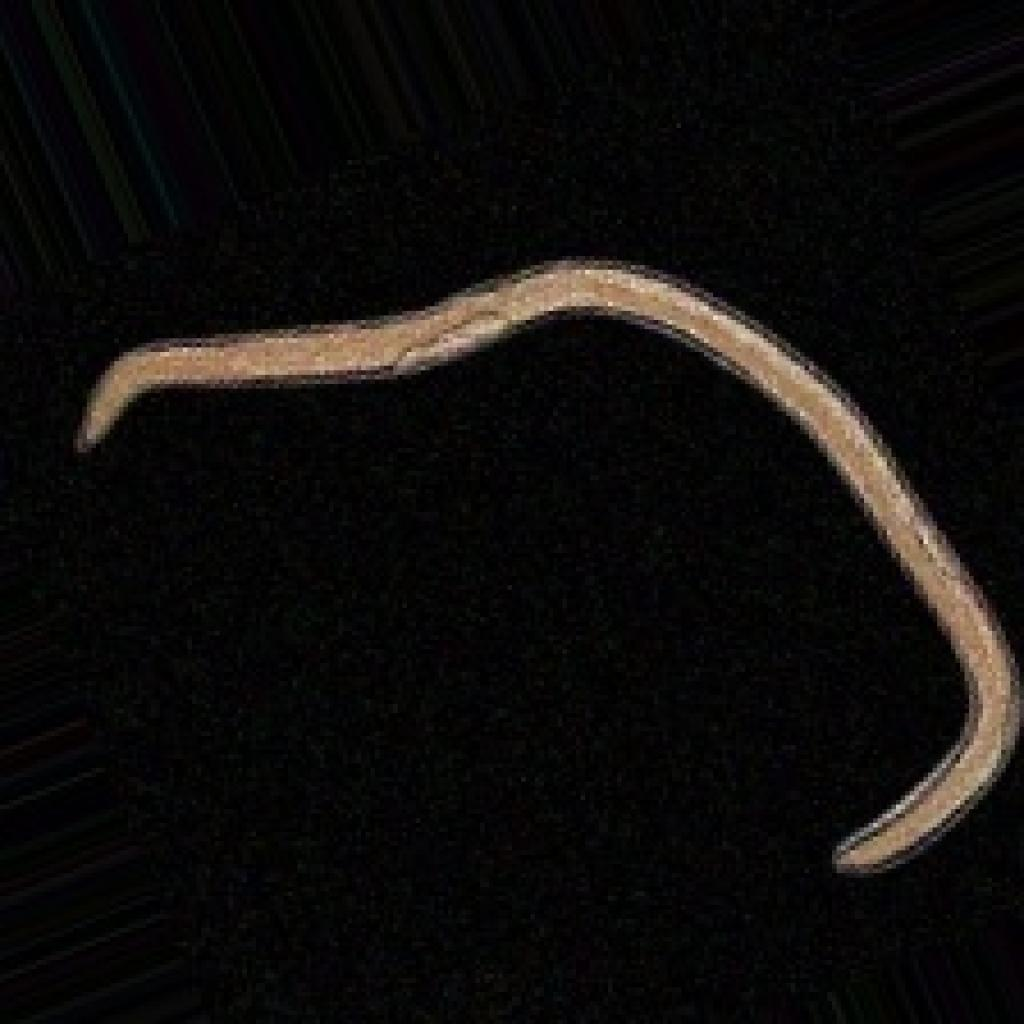Nematode: (64, 247, 1019, 882)
